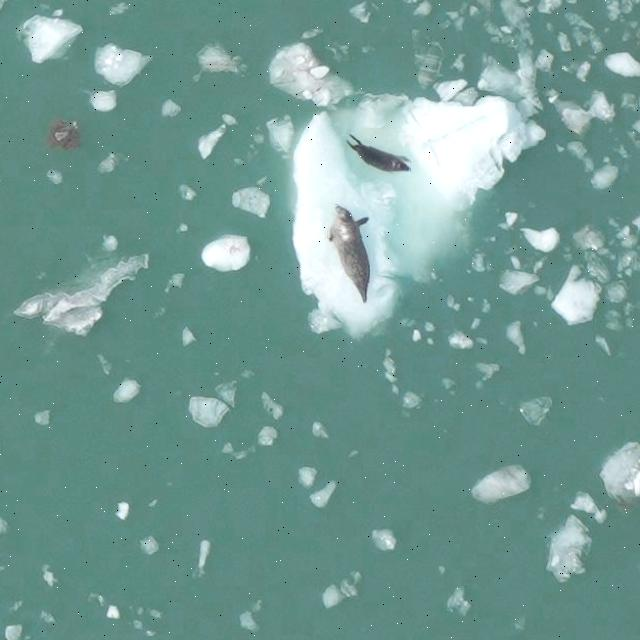seal: (318, 200, 383, 310), (337, 131, 414, 184)
